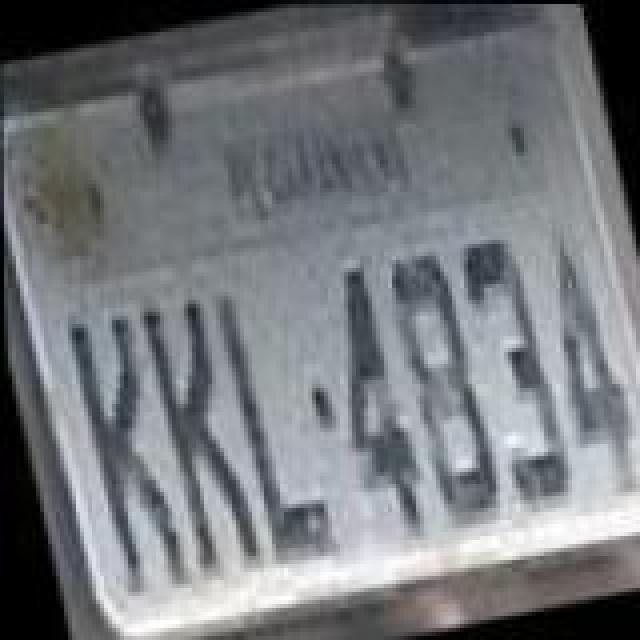3: (446, 222, 574, 514)
4: (298, 252, 434, 548), (528, 222, 640, 502)
8: (376, 236, 500, 528)
K: (56, 298, 188, 598), (130, 282, 262, 578)
L: (206, 262, 338, 562)
